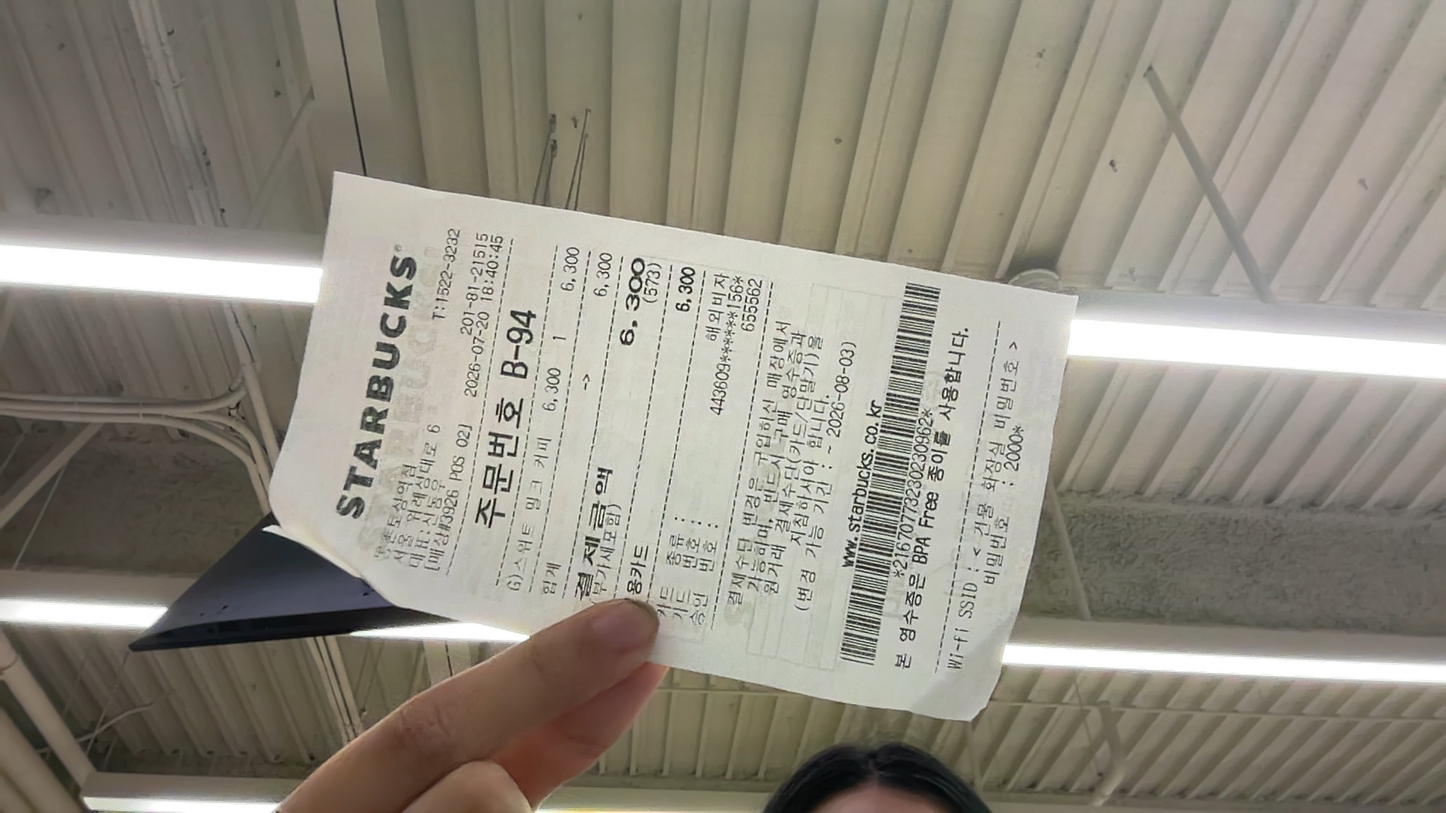Paper: (5, 401, 266, 600)
